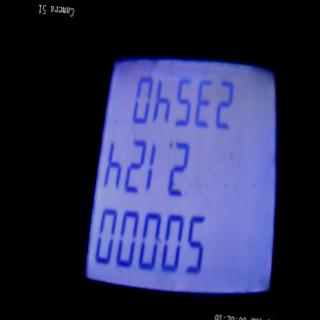screen: (74, 20, 299, 320)
